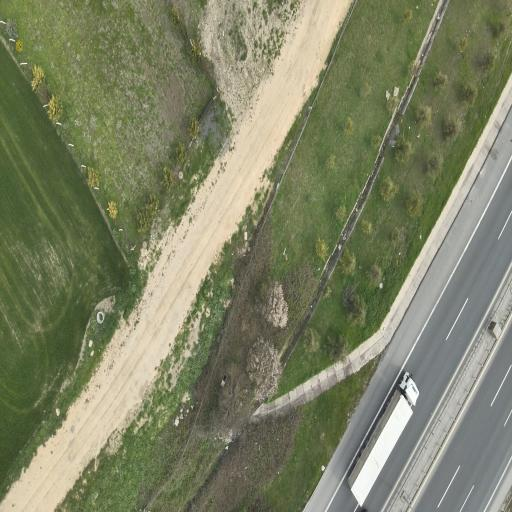car: (348, 373, 417, 505)
